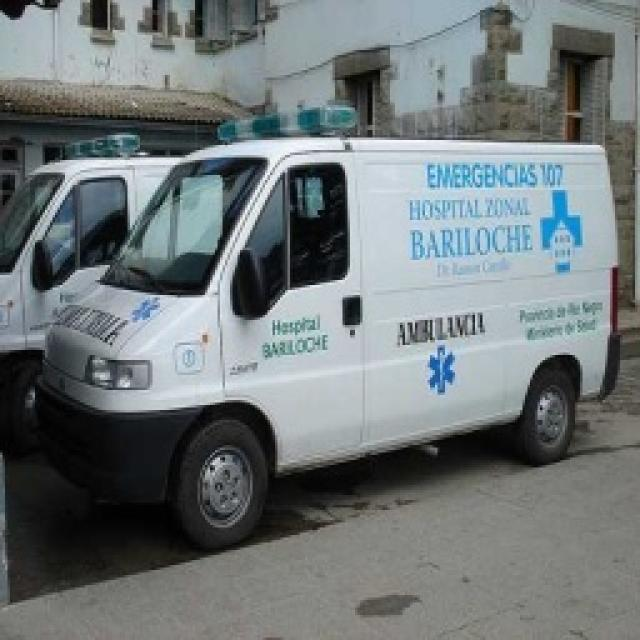emergency-vehicle: (42, 108, 615, 536), (11, 133, 268, 462)
